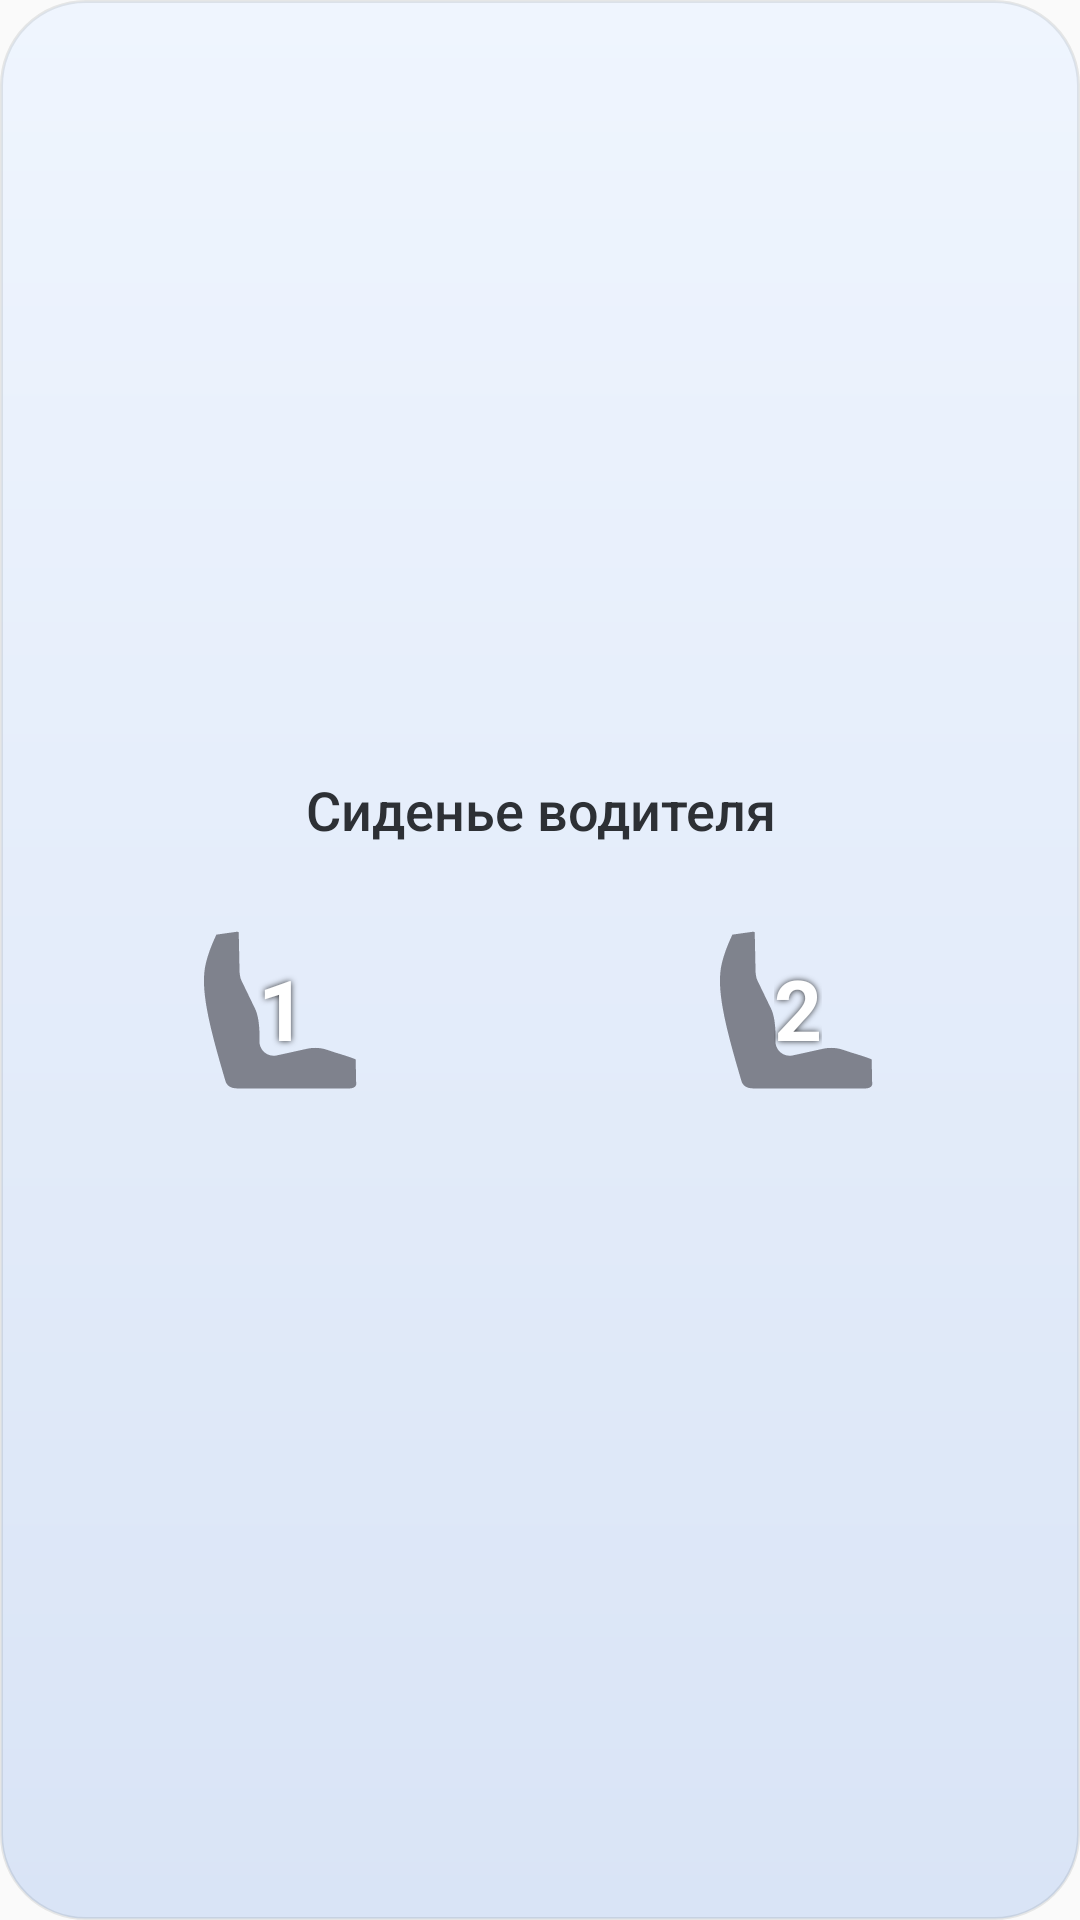

Where to tap for icons on this 1080*1920 app screen, as [x,y]:
Профиль 1: [280,1010]
Профиль 2: [796,1010]
